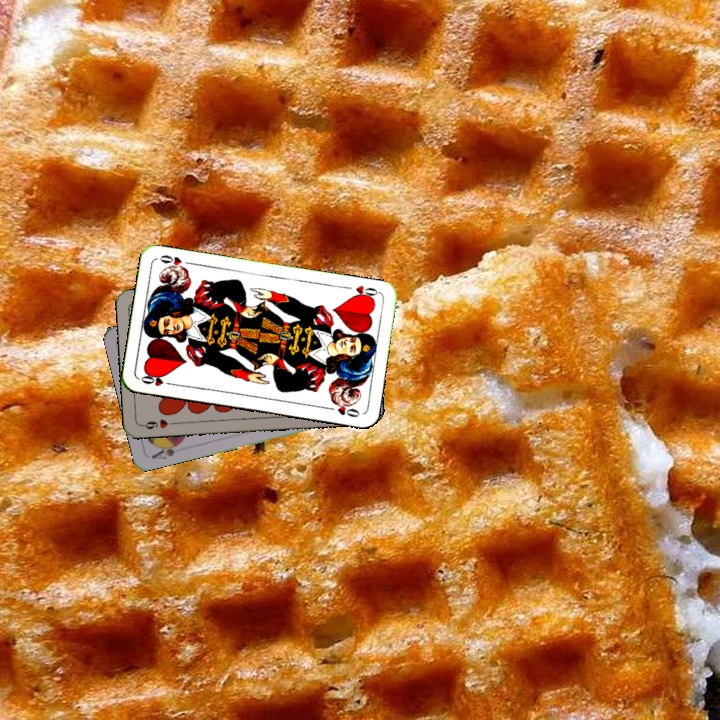H9: (138, 415, 179, 432)
HO: (137, 369, 176, 389), (349, 281, 382, 302)
SA: (147, 437, 185, 462)
